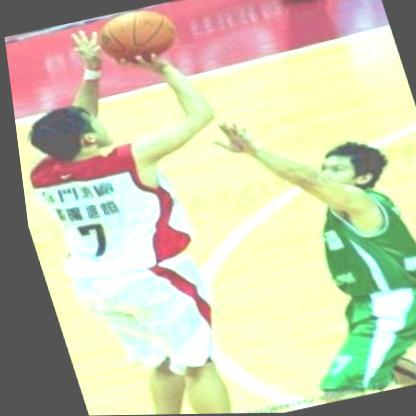basketball: (83, 1, 188, 76)
